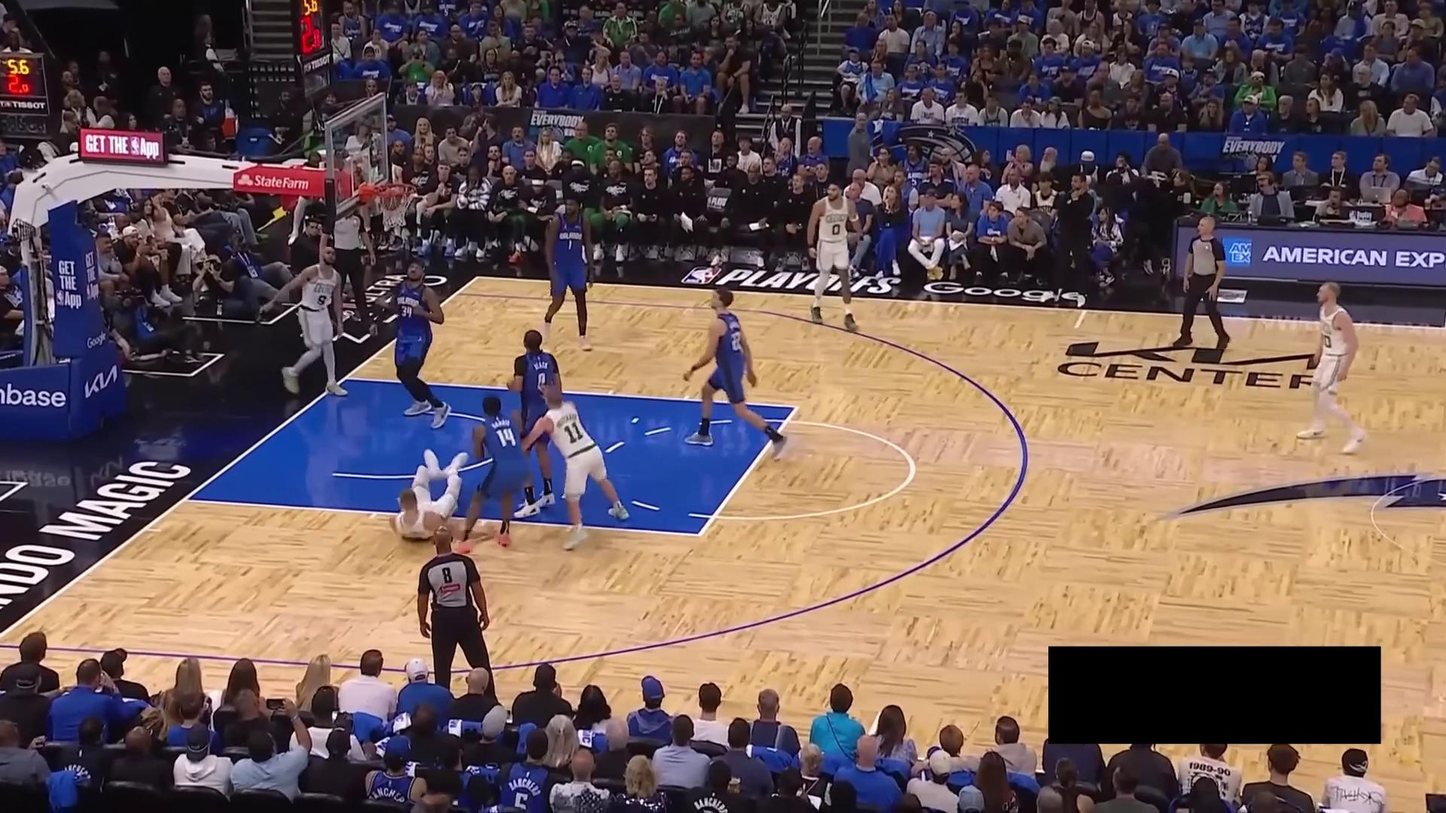ball: (378, 189, 404, 213)
ball-in-basket: (376, 182, 418, 229)
number: (492, 426, 516, 448), (563, 421, 583, 442), (729, 330, 744, 352), (536, 373, 547, 394), (401, 305, 412, 318), (316, 295, 327, 306), (832, 223, 841, 236), (568, 239, 572, 251)
player: (682, 283, 792, 460), (519, 384, 629, 551), (259, 247, 353, 399), (1293, 279, 1372, 455), (373, 256, 452, 431), (451, 396, 527, 556), (506, 327, 565, 520), (536, 195, 598, 352), (806, 178, 864, 333), (391, 442, 469, 542)
referee: (414, 524, 513, 723), (1169, 213, 1230, 356), (317, 206, 379, 333)
rim: (374, 180, 419, 199)
